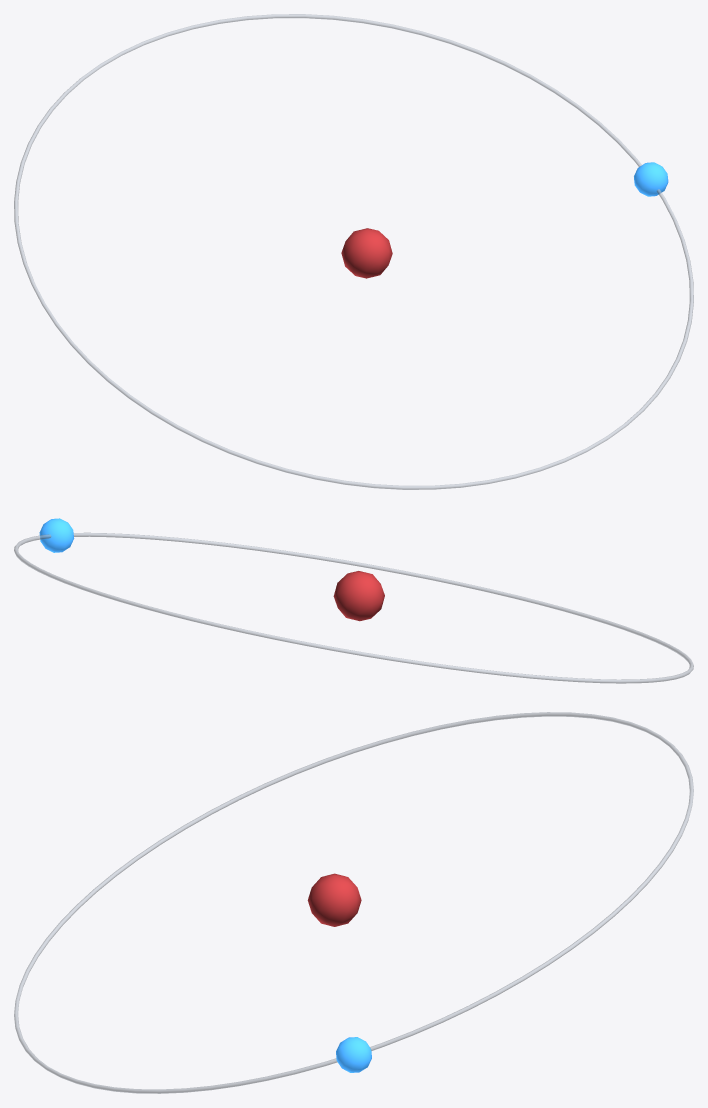
The picture shows the model from 3 angles, top to bottom: view 1: azimuth 30°, elevation 25°; view 2: azimuth 150°, elevation 25°; view 3: azimuth 270°, elevation 25°; orthographic projection. The views are drawn at different scales.
Visible parts, largest first — view 1: anel_1, protons, eletrons_1; view 2: anel_1, protons, eletrons_1; view 3: anel_1, protons, eletrons_1.
Part boxes in pixels (x1=…): anel_1: x1=14, y1=14, x2=693, y2=489; protons: x1=341, y1=228, x2=392, y2=278; eletrons_1: x1=634, y1=162, x2=668, y2=196; anel_1: x1=14, y1=532, x2=693, y2=683; protons: x1=333, y1=571, x2=384, y2=621; eletrons_1: x1=39, y1=518, x2=74, y2=552; anel_1: x1=14, y1=712, x2=693, y2=1093; protons: x1=307, y1=873, x2=361, y2=926; eletrons_1: x1=336, y1=1037, x2=371, y2=1072.
Size of the model in its own units: 0.7202 by 0.2443 by 0.6616.
